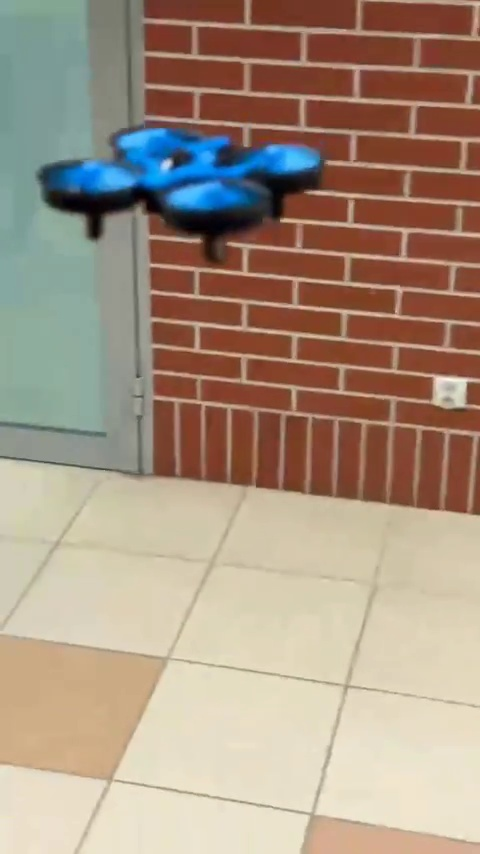drone: (36, 123, 330, 264)
